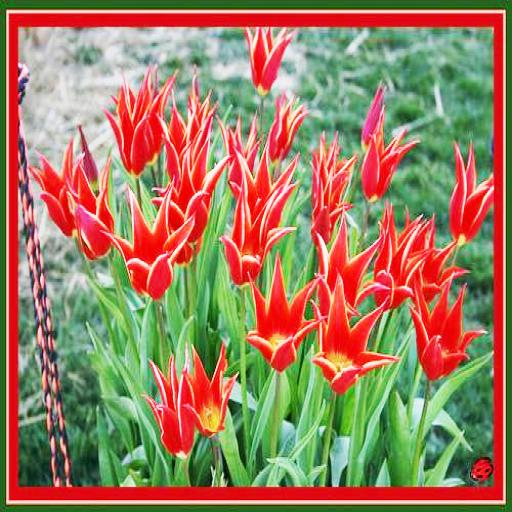tulip: (316, 291, 396, 395), (118, 196, 188, 301), (412, 282, 484, 384), (249, 270, 311, 368), (146, 356, 200, 456), (448, 141, 494, 257), (360, 114, 418, 200), (183, 352, 242, 430), (36, 144, 83, 237), (70, 175, 114, 263), (246, 26, 292, 96), (110, 100, 152, 176)
